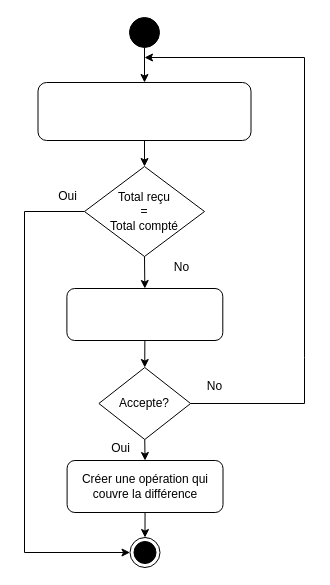
The diagram is 330 pixels wide and 585 high, and some of its shapes have lost their labels. Each missing label, with the centre of its shape:
L'utilisateur accepte la différence de paiement: point 144,314
L'utilisateur compte le montant des espèces dans la caisse.: point 144,111
